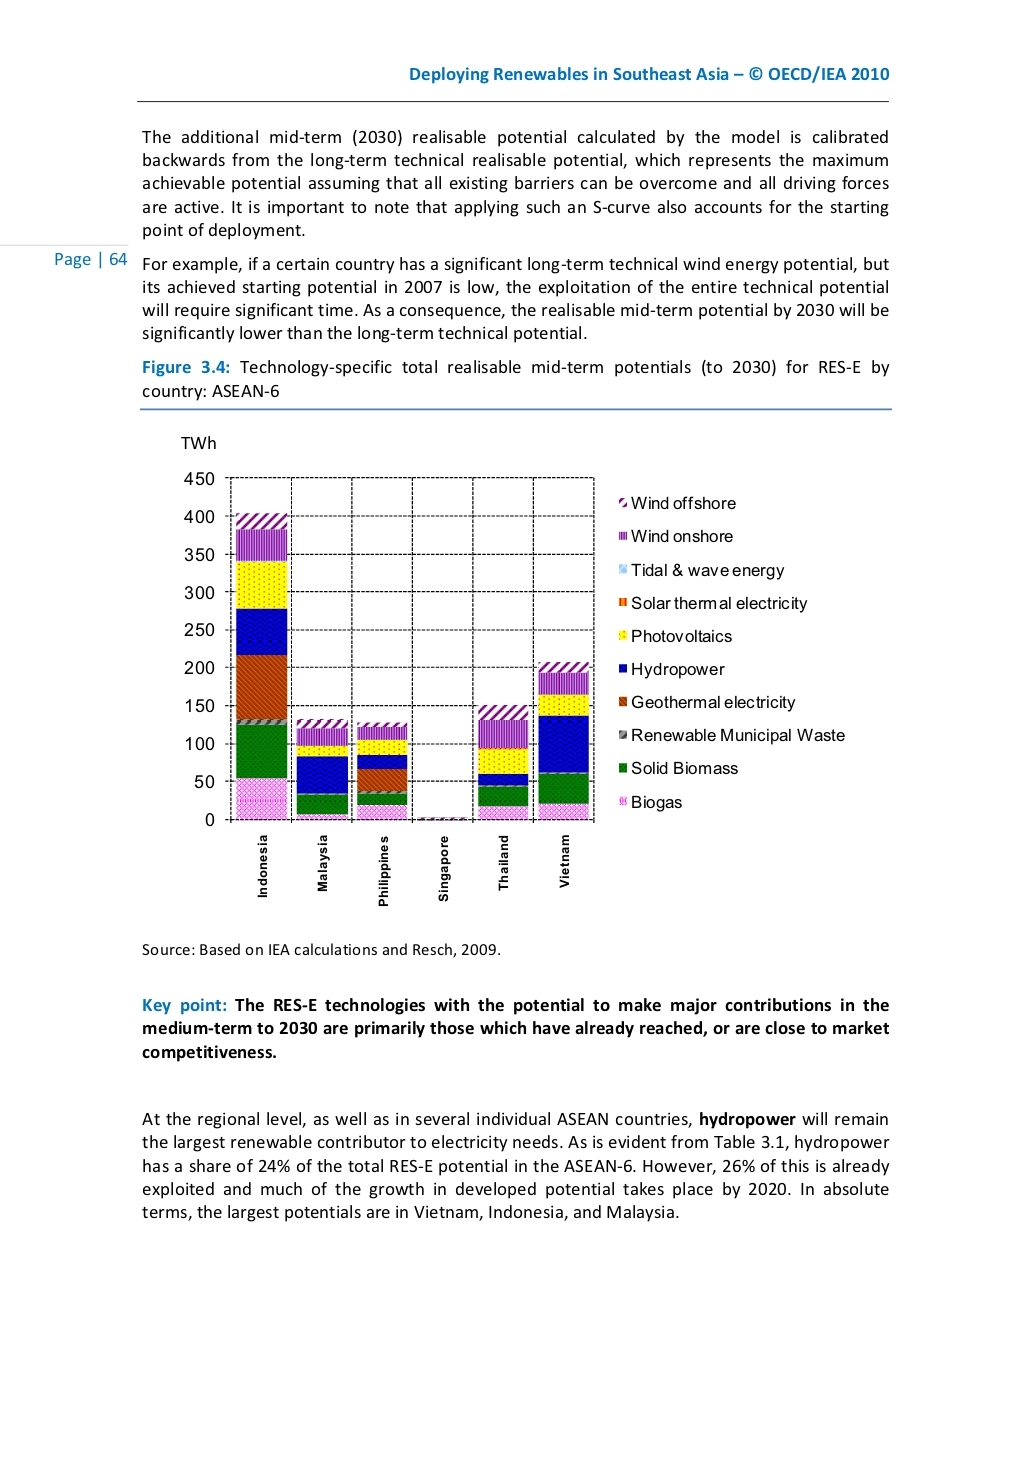figure: (181, 436, 594, 905), (617, 496, 844, 812)
